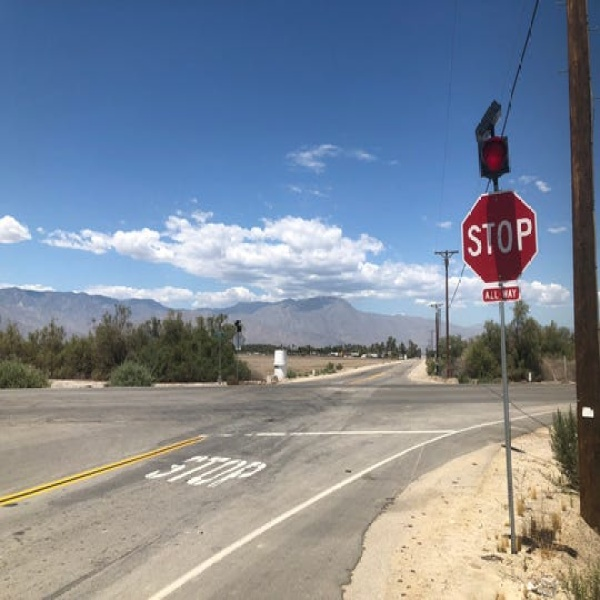stop: (460, 190, 538, 286)
